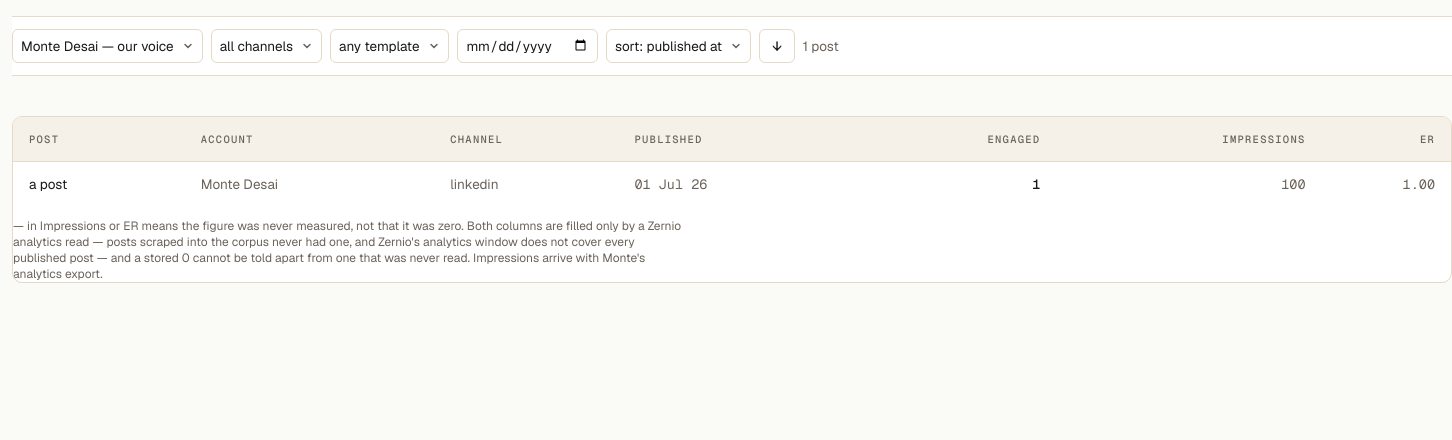
Test: a failed filter › re-requests when Try again is clicked, and clears the failure when the retry succeeds
Click the button named "toggle sort direction" at (777, 46), box left=759, top=29, right=795, bottom=63
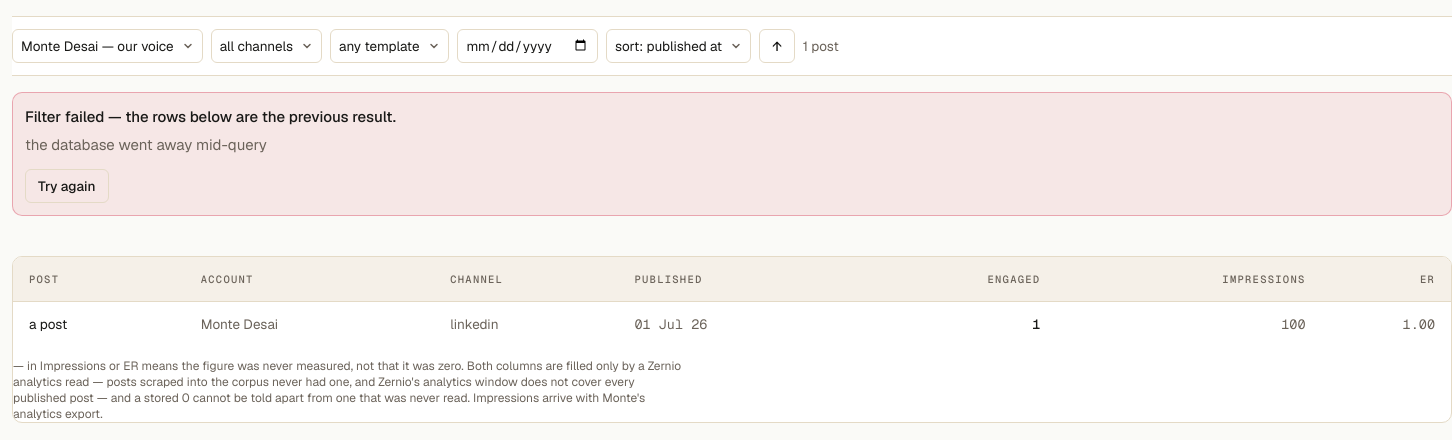
Check: the message is shown, box left=12, top=92, right=1451, bottom=216
Click the button "Try again" at (67, 186), box left=25, top=169, right=108, bottom=203
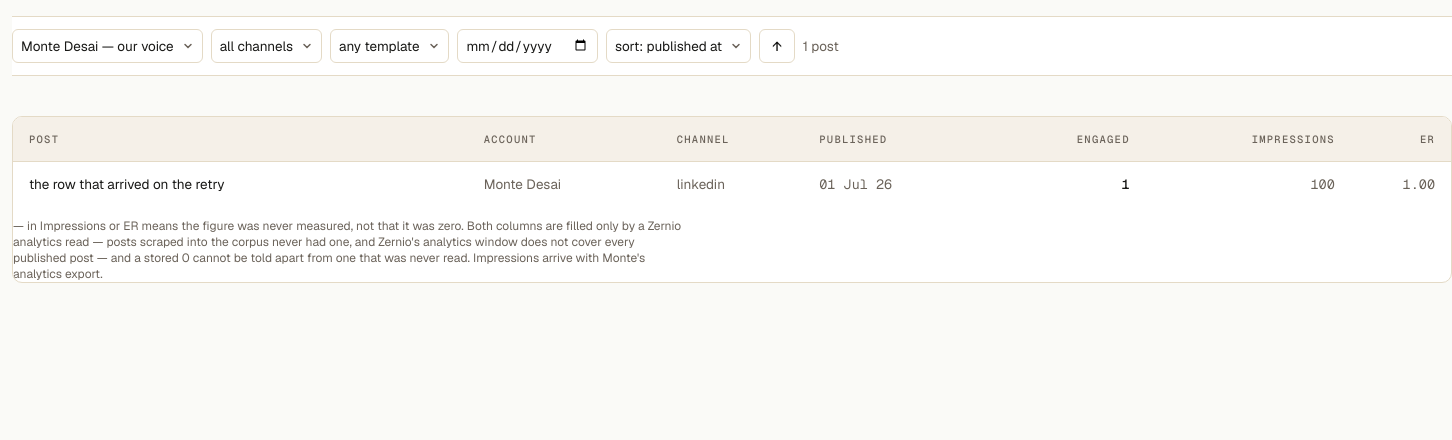
Check: the link "the row that arrived on the retry" is shown, box left=29, top=175, right=225, bottom=193
Check: the message is gone
